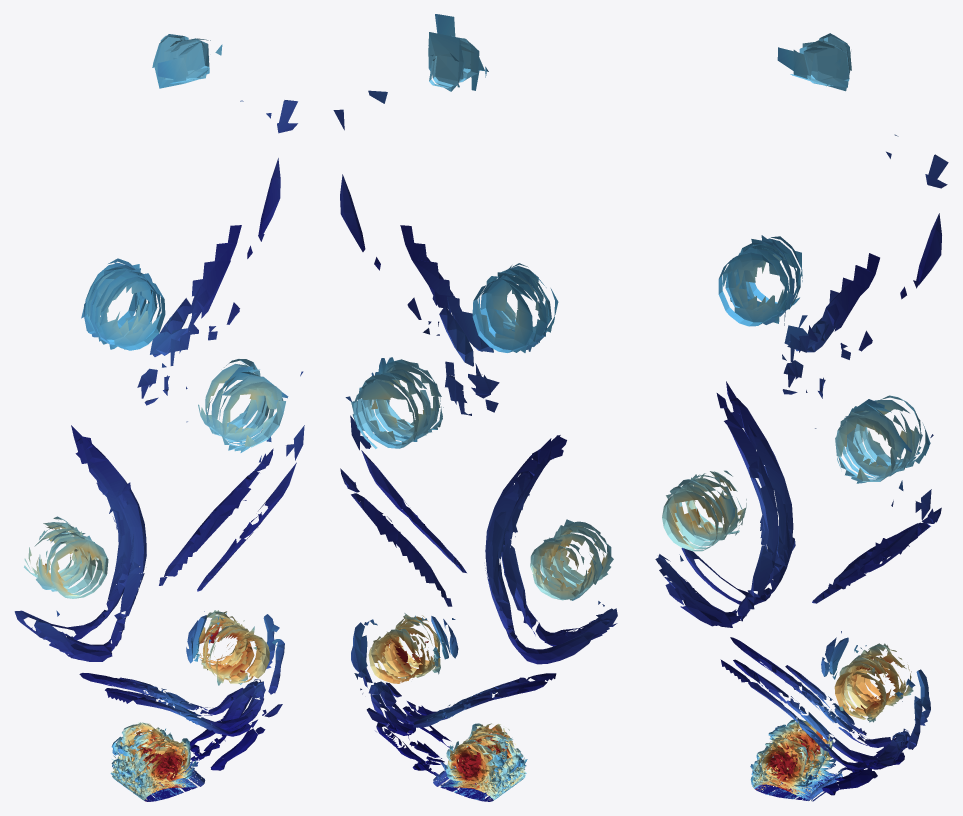
File: flowfield_1_TurbulentEnergyKinetic.glb
3 views of the same model, side by side, from view 1: azimuth 30°, elevation 25°; view 2: azimuth 150°, elevation 25°; view 3: azimuth 330°, elevation 25° (orthographic). The views are drawn at different scales.
Visible parts, largest first — view 1: Renderer Node; view 2: Renderer Node; view 3: Renderer Node.
Part boxes in pixels (bbox=[...]): Renderer Node: bbox=[14, 34, 304, 801]; Renderer Node: bbox=[333, 14, 617, 801]; Renderer Node: bbox=[655, 33, 948, 801].
Bounding box in the file's own units: 5.21 × 13.5 × 1.03.
Materials: 1 (1 with a texture image).
